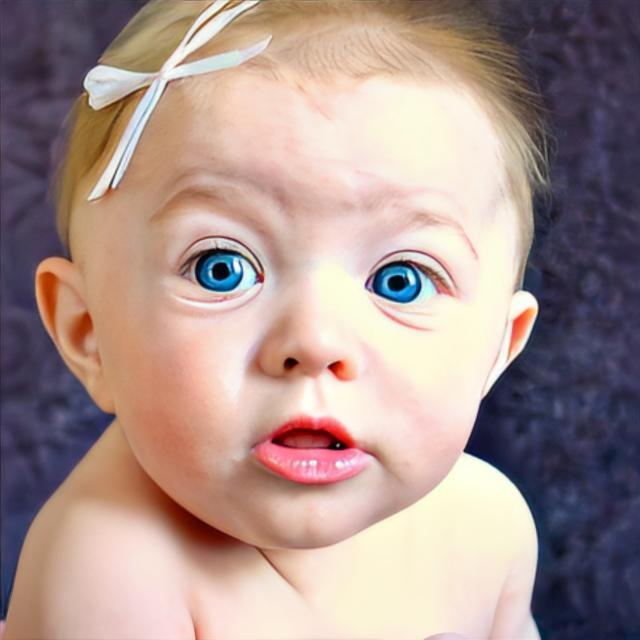surprise: (70, 33, 524, 552)
